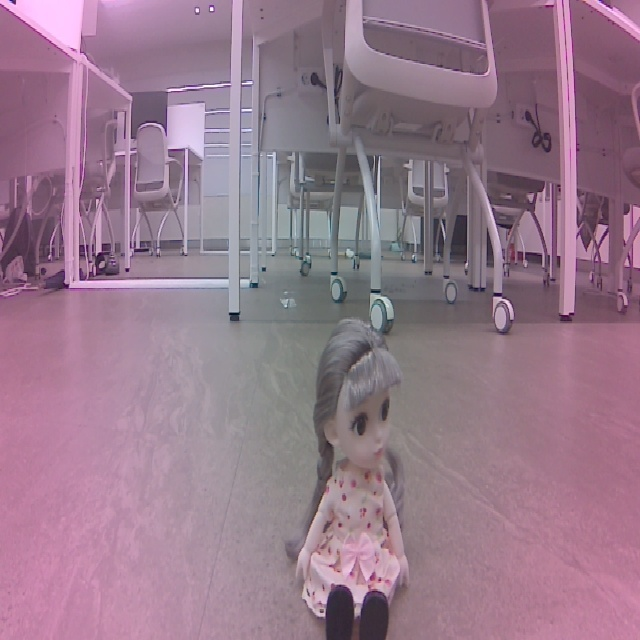장애물: (276, 317, 438, 640)
